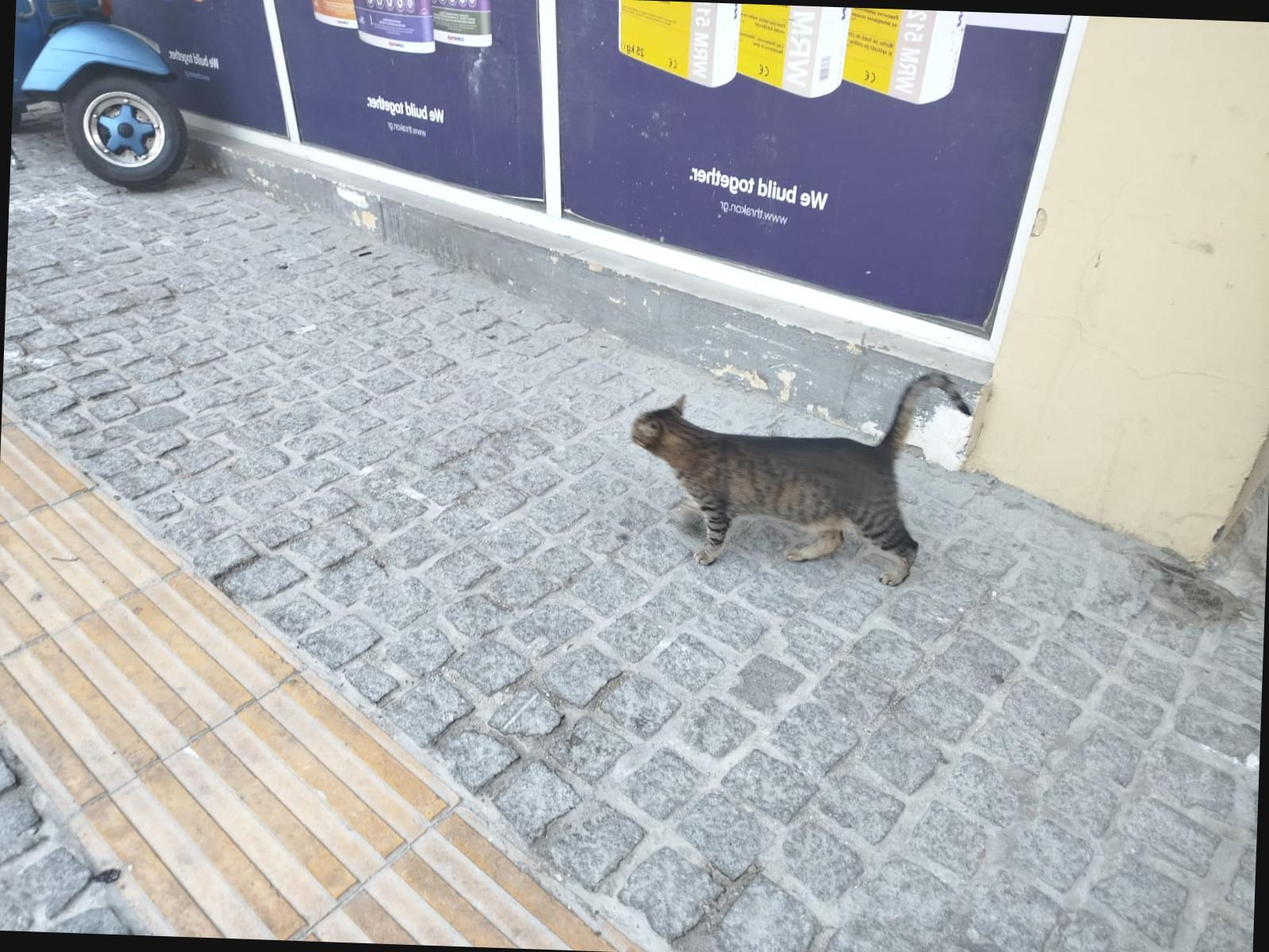macka: (623, 360, 976, 588)
